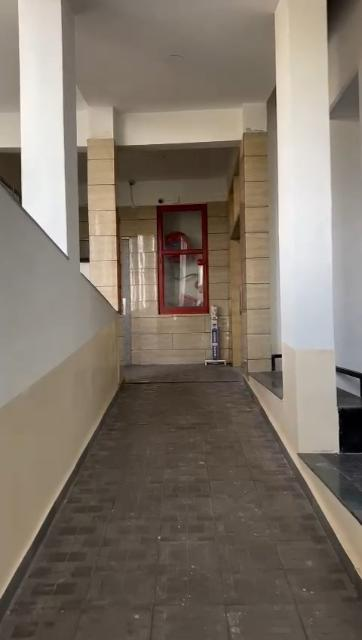floor: (2, 359, 362, 640)
wall: (0, 0, 123, 596), (270, 11, 334, 451), (244, 148, 278, 336), (130, 204, 160, 358), (212, 206, 230, 300), (164, 322, 206, 361)
